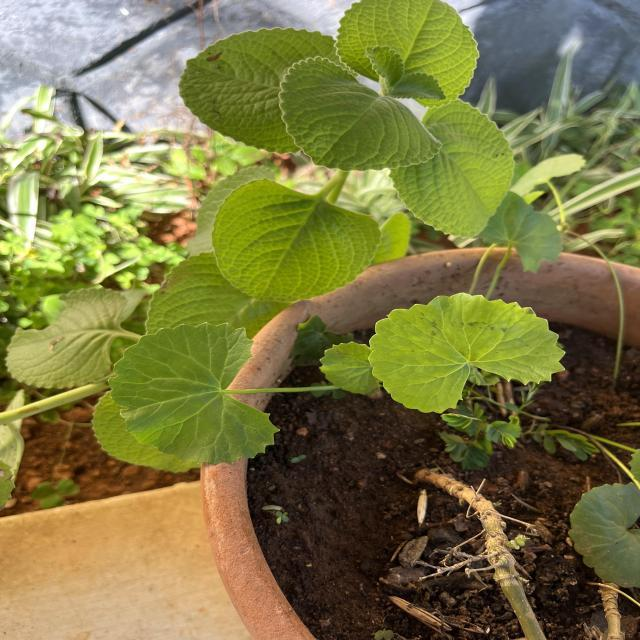Centella asiatica: (104, 320, 284, 468), (366, 290, 568, 416)
